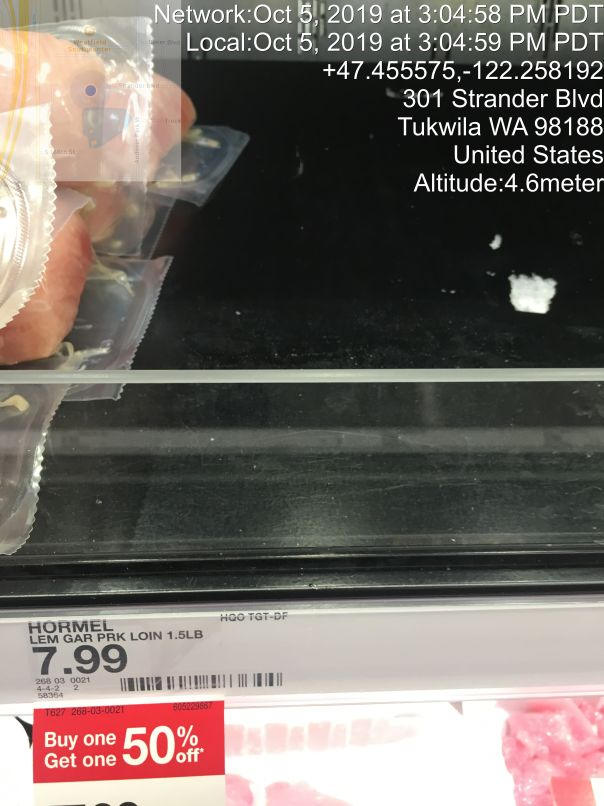Label: (12, 610, 311, 699)
Location: (394, 89, 604, 164)
Time: (138, 2, 604, 57)
Void: (182, 121, 543, 534)
